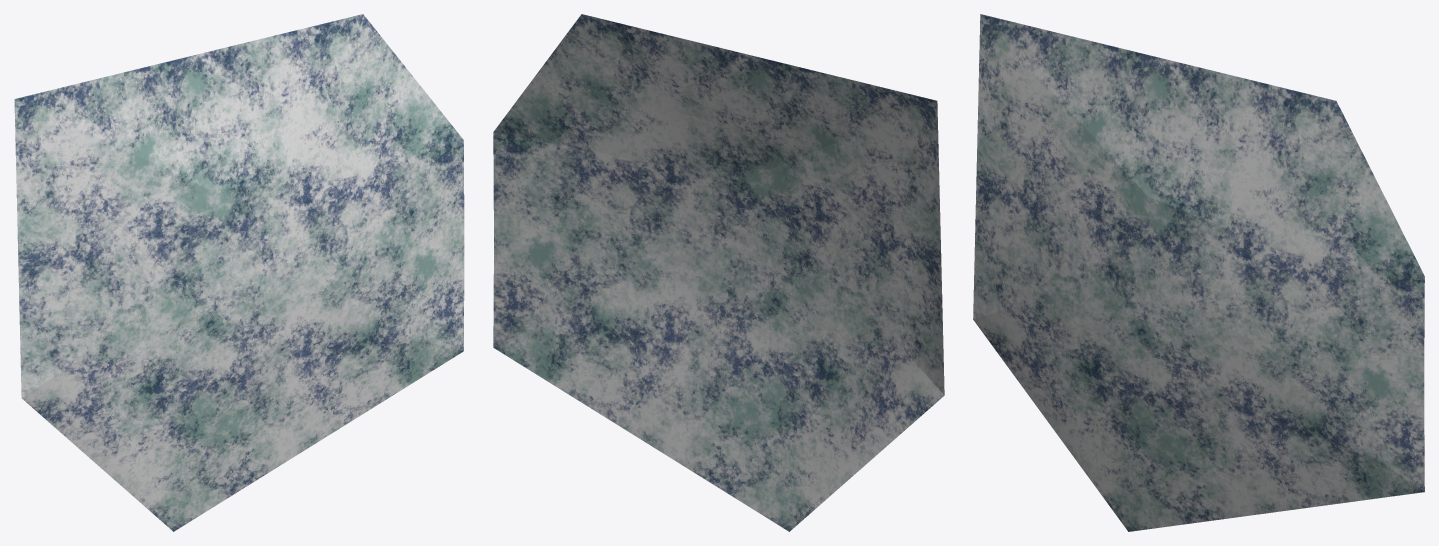
Rendered from SpiderWeb3.fbx.
3 renders of one model, left to right at view 1: azimuth 30°, elevation 25°; view 2: azimuth 150°, elevation 25°; view 3: azimuth 330°, elevation 25°, orthographic. The views are drawn at different scales.
Visible parts, largest first — view 1: SM_d_109_Cliff_Spiderweb_03a; view 2: SM_d_109_Cliff_Spiderweb_03a; view 3: SM_d_109_Cliff_Spiderweb_03a.
Part boxes in pixels (x1,y1,x2,y2): SM_d_109_Cliff_Spiderweb_03a: (14,14,464,531); SM_d_109_Cliff_Spiderweb_03a: (493,14,944,531); SM_d_109_Cliff_Spiderweb_03a: (973,14,1424,531).
Size of the model in its own units: 1047 by 1052 by 89.38.
